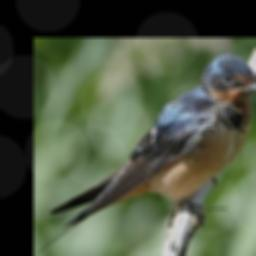Swallow: (36, 52, 256, 254)
